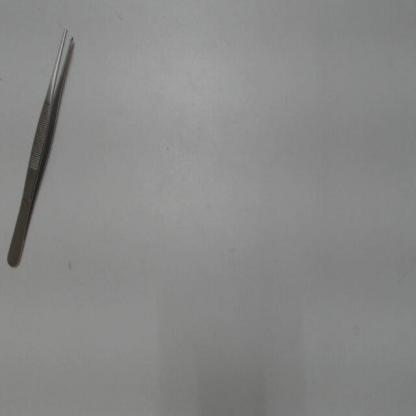Gillies Toothed Dissector: (3, 17, 84, 278)
